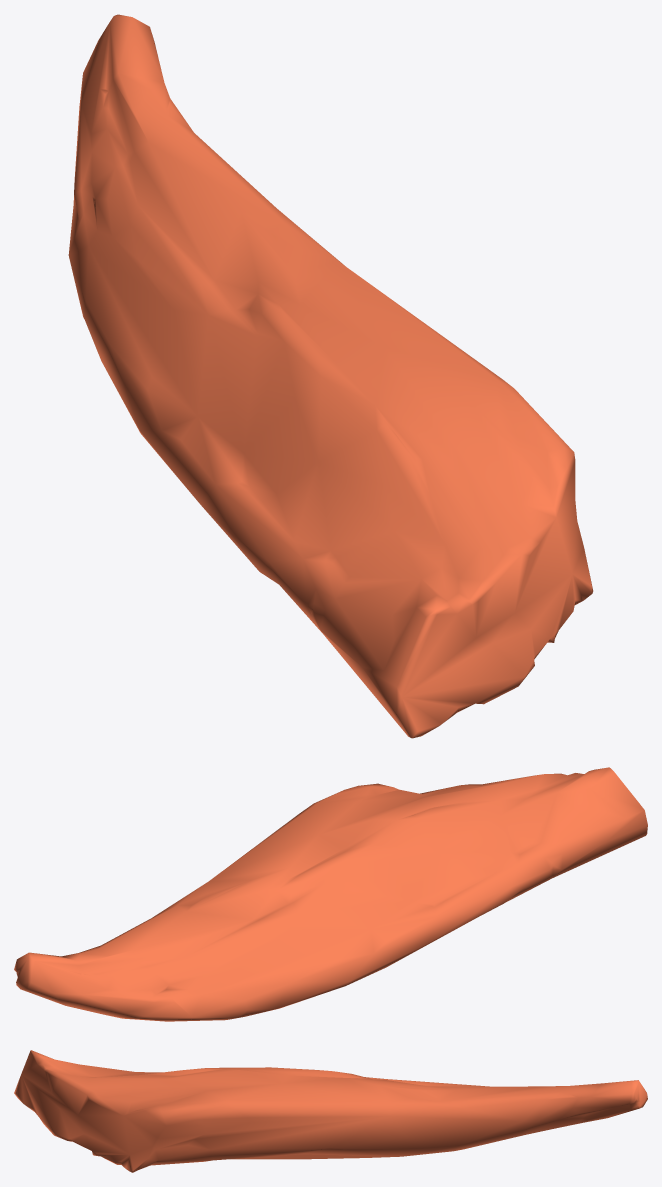
The model's file is Anterior_belly_of_digastric_muscle.l_Generated_Mesh_From_X3D.10.glb.
3 renders of one model, top to bottom at view 1: azimuth 30°, elevation 25°; view 2: azimuth 150°, elevation 25°; view 3: azimuth 270°, elevation 25°, orthographic. The views are drawn at different scales.
Parts seen in each view (by area): view 1: Anterior_belly_of_digastric_muscle.l_Generated_Mesh_From_X3D; view 2: Anterior_belly_of_digastric_muscle.l_Generated_Mesh_From_X3D; view 3: Anterior_belly_of_digastric_muscle.l_Generated_Mesh_From_X3D.
Boxes of the visible parts, box(x1,y1,x2,y2) form: Anterior_belly_of_digastric_muscle.l_Generated_Mesh_From_X3D: box(68, 14, 593, 738); Anterior_belly_of_digastric_muscle.l_Generated_Mesh_From_X3D: box(14, 767, 647, 1021); Anterior_belly_of_digastric_muscle.l_Generated_Mesh_From_X3D: box(14, 1050, 647, 1172).
Size of the model in its own units: 0.012 by 0.00634 by 0.0358.
